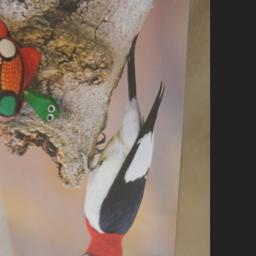Woodpecker: (69, 32, 166, 256)
